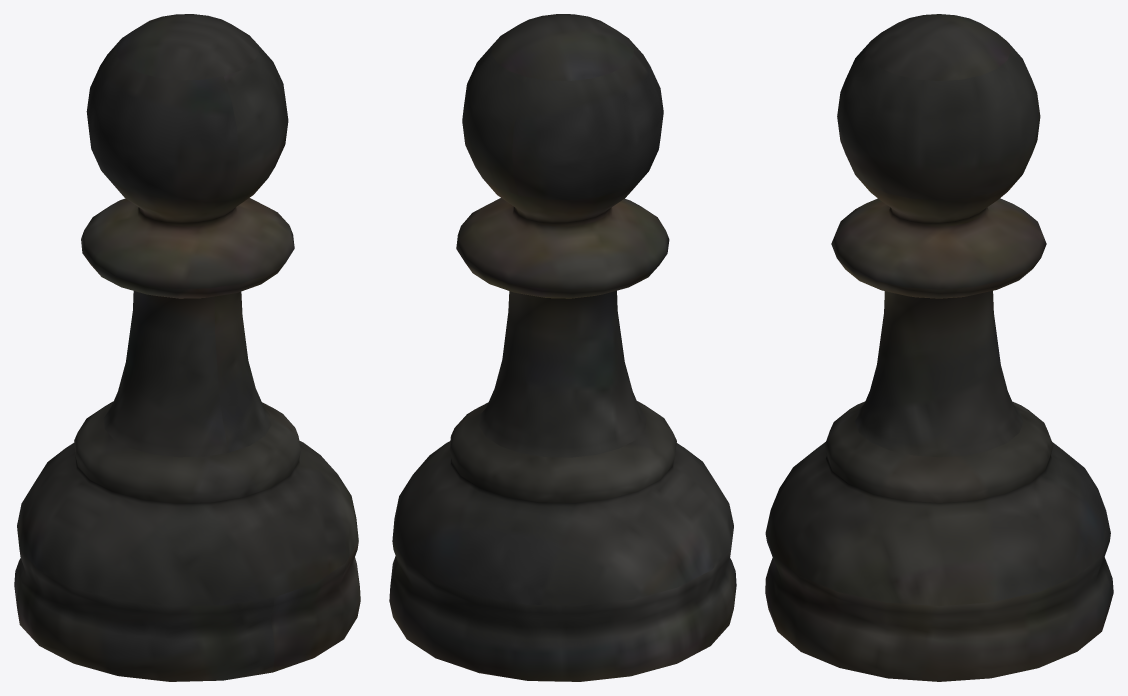
Rendered from pawn_black.glb.
3 renders of one model, left to right at view 1: azimuth 30°, elevation 25°; view 2: azimuth 150°, elevation 25°; view 3: azimuth 270°, elevation 25°, orthographic.
Parts seen in each view (by area): view 1: piece_pawn_black_01; view 2: piece_pawn_black_01; view 3: piece_pawn_black_01.
Part boxes in pixels (<box>): piece_pawn_black_01: <box>14,14,360,681</box>; piece_pawn_black_01: <box>389,14,736,681</box>; piece_pawn_black_01: <box>765,14,1113,681</box>.
Size of the model in its own units: 0.0289 by 0.0537 by 0.0289.
Materials: 1 (1 with a texture image).
